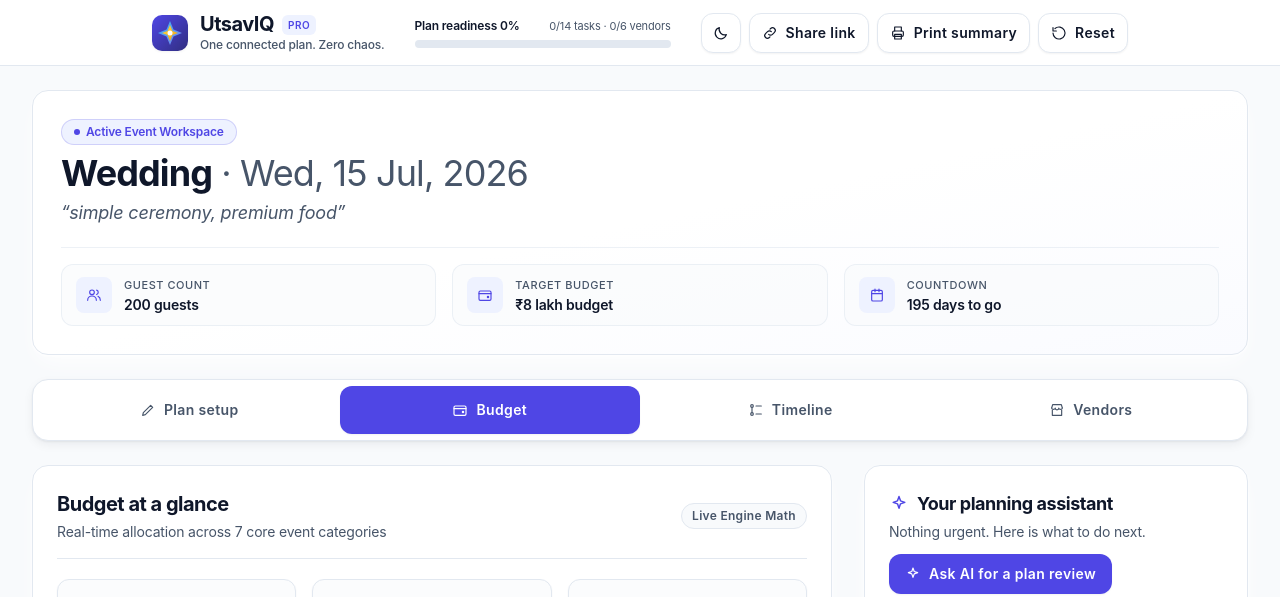
Test: accessibility (axe) › budget tab has no violations, including the over-budget state
Click the tab "Budget": click(490, 410) [340, 386, 640, 434]
(page scrolled)
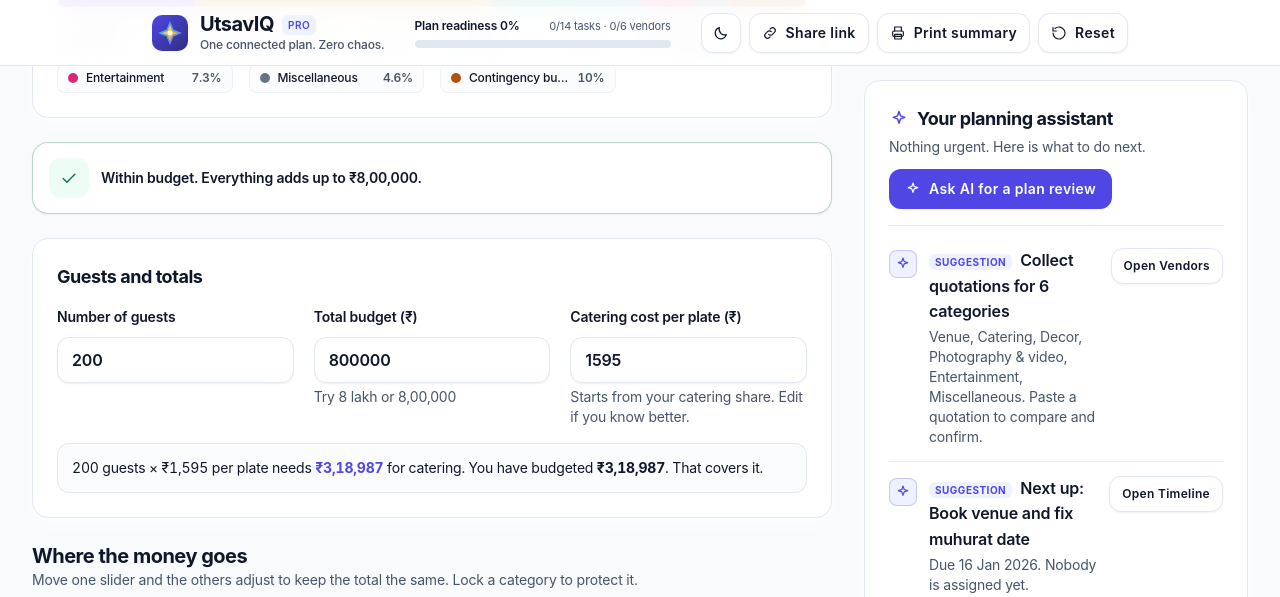
Replace the text in the number field labelled "Number of guests" with "260": (175, 360) [57, 337, 294, 383]
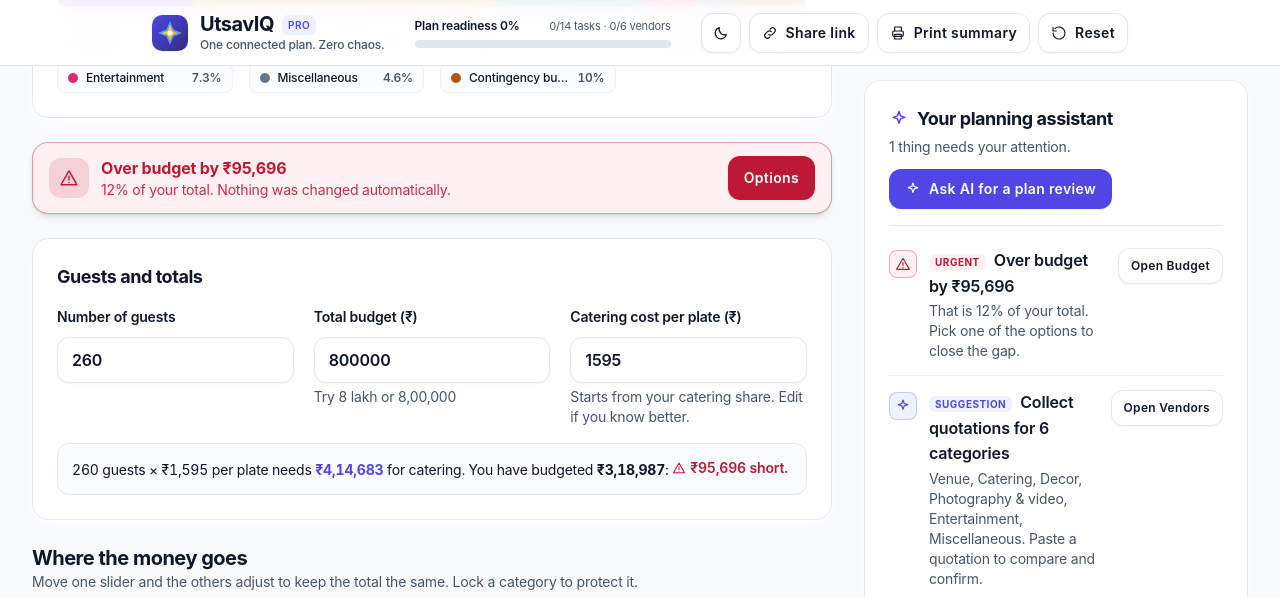
Expected: the message with test id "over-budget-region" shows "Over budget", [101, 158, 222, 178]
